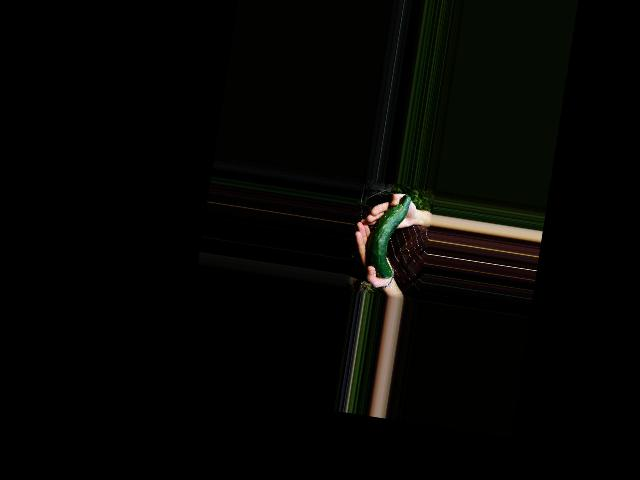cucumber: (362, 190, 411, 281)
